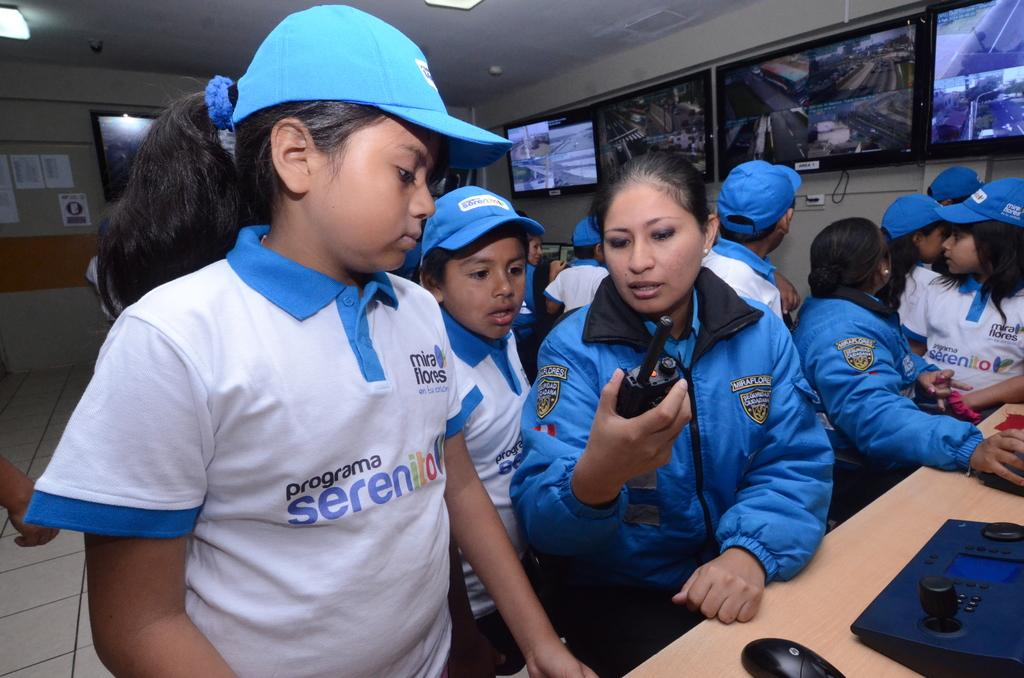Hat: (230, 5, 512, 171), (420, 178, 542, 261), (716, 159, 802, 238), (935, 175, 1023, 230), (880, 193, 946, 244), (927, 165, 982, 201), (572, 216, 604, 247)
